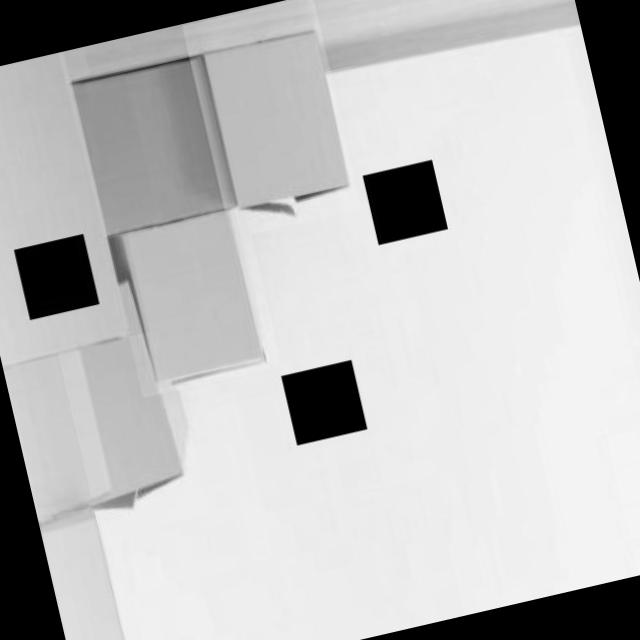box: (39, 253, 210, 538), (0, 48, 149, 365), (181, 0, 361, 237), (100, 182, 282, 398), (71, 48, 241, 237), (3, 344, 116, 510), (39, 505, 142, 640)
